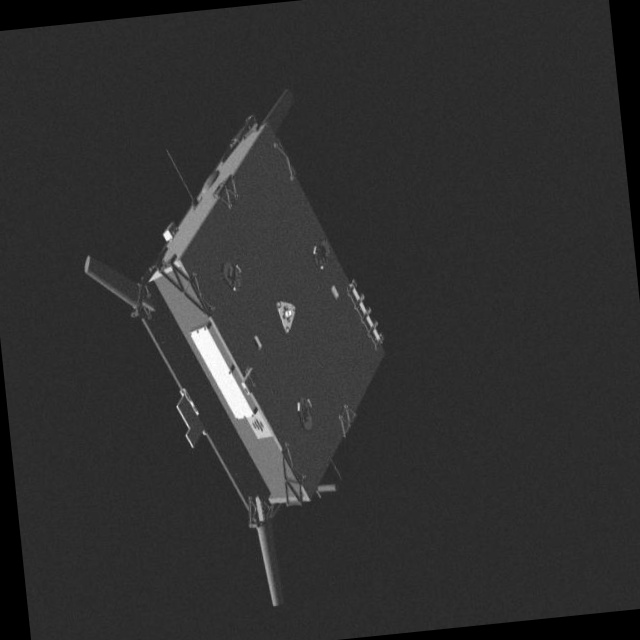satellite: (65, 73, 429, 626)
